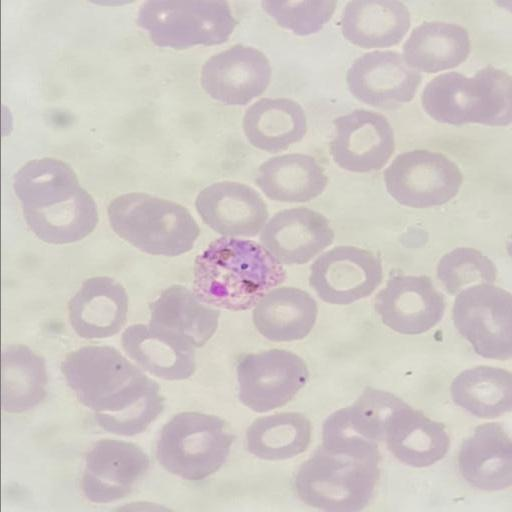Infected: (193, 235, 284, 308)
Uninfected: (12, 155, 96, 245), (293, 440, 379, 512), (58, 345, 153, 407), (110, 192, 197, 256), (156, 409, 233, 480), (427, 65, 512, 127), (375, 399, 448, 466), (123, 322, 199, 383), (148, 285, 218, 351), (383, 148, 459, 208), (451, 283, 511, 358), (140, 0, 233, 47), (194, 180, 269, 238), (235, 349, 305, 411), (201, 44, 272, 105), (259, 206, 331, 265), (345, 50, 418, 108), (67, 274, 131, 340), (330, 109, 397, 172), (375, 273, 443, 335), (311, 245, 382, 304), (82, 438, 147, 502), (90, 382, 164, 438), (321, 399, 393, 453), (240, 95, 307, 151), (457, 421, 510, 489), (251, 285, 315, 341), (244, 410, 311, 460), (258, 155, 329, 202), (450, 364, 510, 419), (340, 0, 409, 46), (403, 22, 467, 71), (435, 246, 497, 294)
